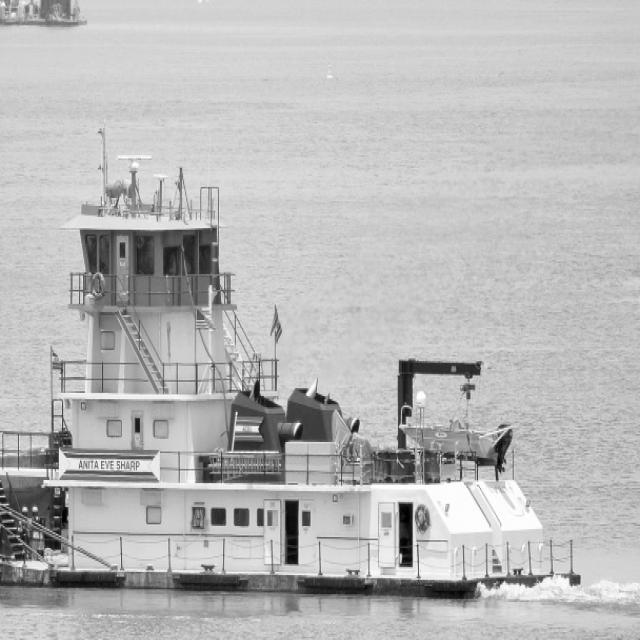tugboat: (1, 115, 590, 615)
